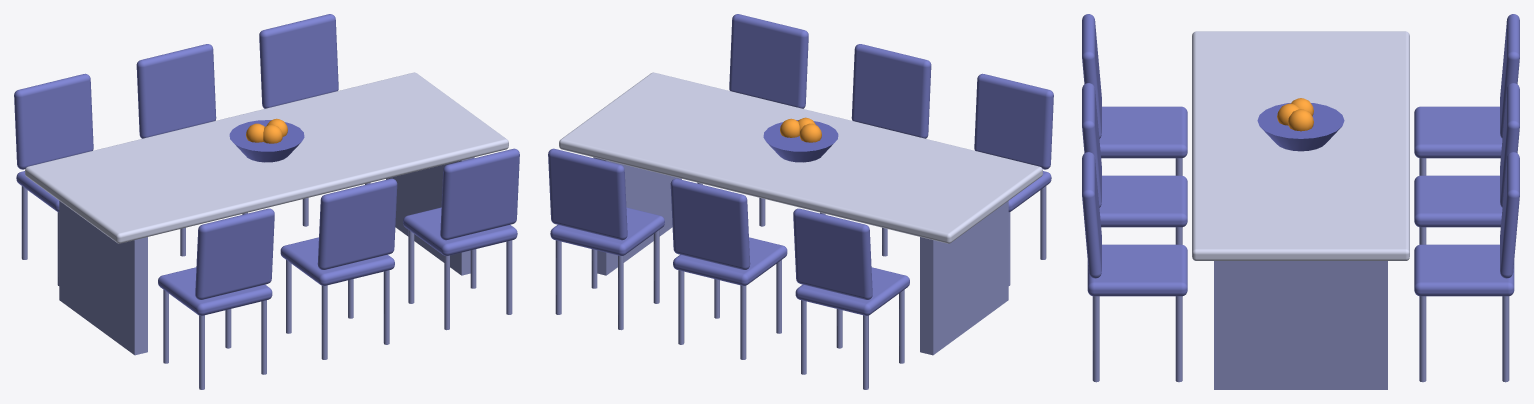
File: diningSet.glb
3 views of the same model, side by side, from view 1: azimuth 30°, elevation 25°; view 2: azimuth 150°, elevation 25°; view 3: azimuth 270°, elevation 25° (orthographic). The views are drawn at different scales.
Visible parts, largest first — view 1: top, diningSet, chair5, chair4, chair3, chair0, chair2, chair1, bowl; view 2: top, diningSet, chair2, chair1, chair0, chair3, chair5, chair4, bowl; view 3: top, diningSet, chair2, chair5, chair0, chair3, chair1, chair4, bowl, fruit2.
Boxes of the visible parts, bbox=[...] form: top: bbox=[25, 72, 508, 243]; diningSet: bbox=[59, 157, 474, 355]; chair5: bbox=[403, 148, 519, 330]; chair4: bbox=[280, 178, 397, 359]; chair3: bbox=[158, 208, 274, 389]; chair0: bbox=[14, 73, 93, 285]; chair2: bbox=[259, 14, 370, 226]; chair1: bbox=[136, 44, 247, 256]; bowl: bbox=[229, 120, 304, 162]; top: bbox=[559, 72, 1042, 243]; diningSet: bbox=[593, 157, 1008, 355]; chair2: bbox=[548, 148, 664, 330]; chair1: bbox=[670, 178, 787, 359]; chair0: bbox=[793, 208, 909, 389]; chair3: bbox=[974, 73, 1053, 285]; chair5: bbox=[697, 14, 808, 226]; chair4: bbox=[820, 44, 931, 256]; bowl: bbox=[763, 120, 838, 162]; top: bbox=[1192, 31, 1409, 260]; diningSet: bbox=[1214, 261, 1387, 389]; chair2: bbox=[1414, 152, 1519, 382]; chair5: bbox=[1082, 152, 1187, 382]; chair0: bbox=[1414, 14, 1519, 175]; chair3: bbox=[1082, 14, 1187, 175]; chair1: bbox=[1414, 83, 1519, 244]; chair4: bbox=[1082, 83, 1187, 244]; bowl: bbox=[1257, 103, 1344, 151]; fruit2: bbox=[1288, 109, 1313, 131].
Bounding box in the file's own units: 2.4 × 0.9743 × 2.01.
